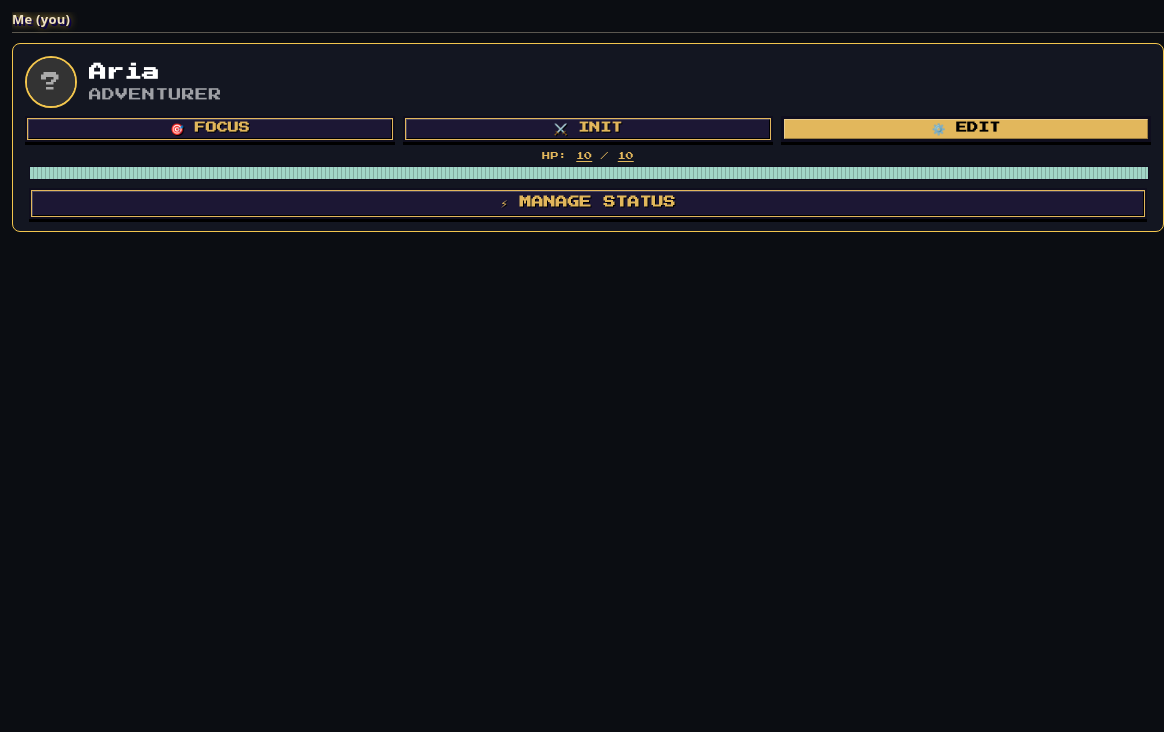
Test: MobileEntitiesList rows › keeps the by-owner fallback for a SOLE character with an unlinked token
Click the button "⚙️ EDIT".
click(966, 129)  # box [781, 116, 1151, 142]
(page scrolled)
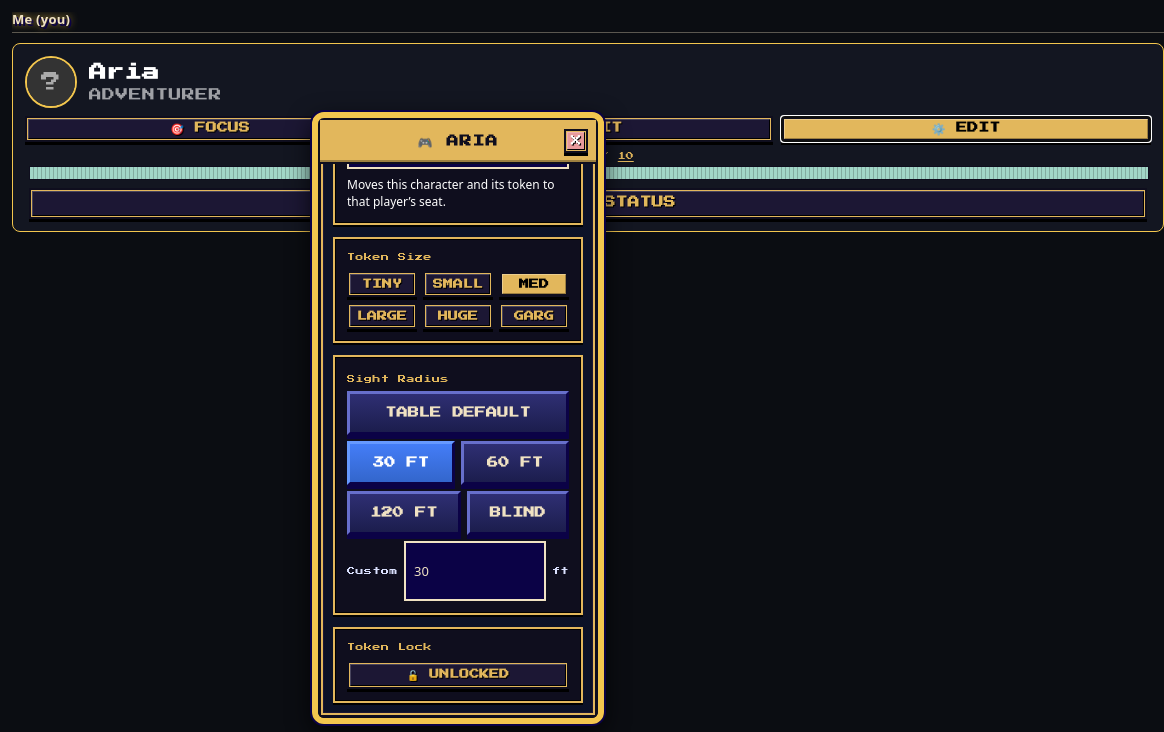
Expected: the number field named "Sight radius in feet" holds "30", [404, 541, 546, 601]
